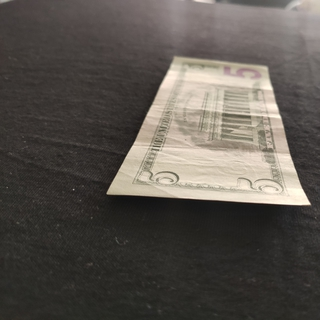5USDBack: (105, 56, 312, 207)
